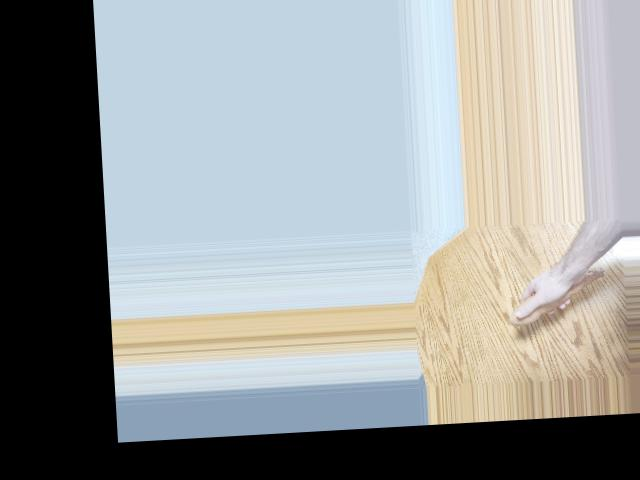sweet_potato: (510, 264, 609, 324)
